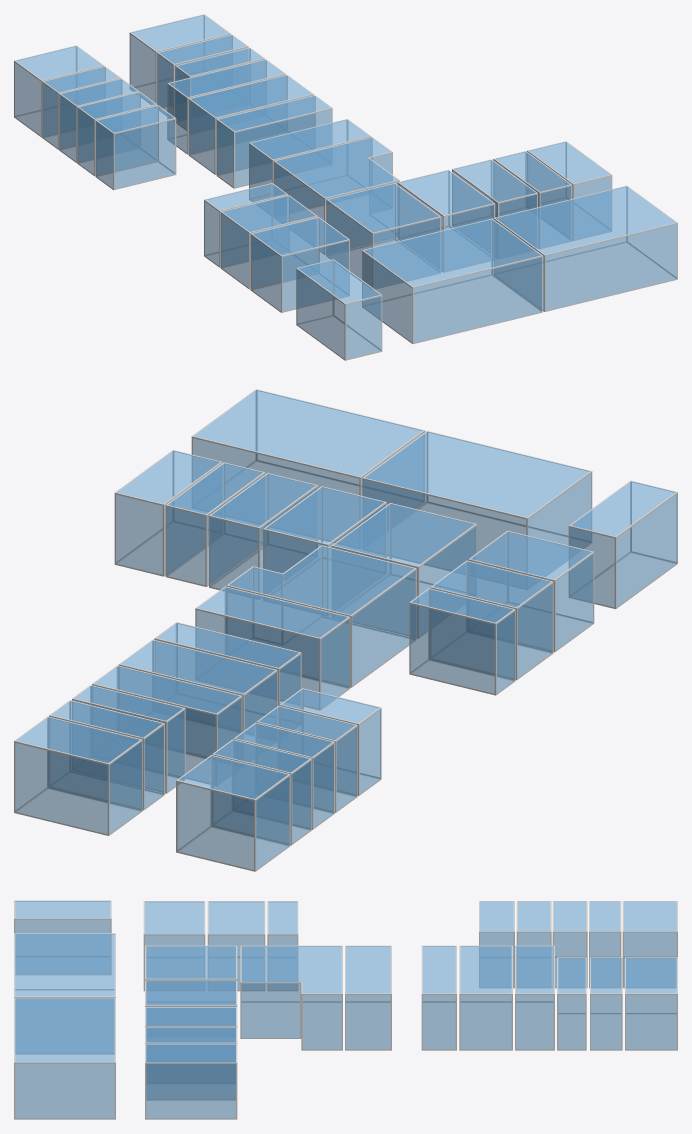
File: Hospital_Selection_Boxes_FirstFloor.glb
3 views of the same model, one above another, from view 1: azimuth 30°, elevation 25°; view 2: azimuth 150°, elevation 25°; view 3: azimuth 270°, elevation 25° (orthographic). The views are drawn at different scales.
Parts seen in each view (by area): view 1: Room_1, Room_Registry, Room_10, Room_8, Room_13, Room_11, Room_6, Room_7, Room_12, Room_Pharmacy, Room_5, Room_14 (+12 smaller); view 2: Room_Registry, Room_1, Room_10, Room_8, Room_17, Room_11, Room_7, Room_18, Room_13, Room_Pharmacy, Room_6, Room_2 (+12 smaller); view 3: Room_1, Room_Registry, Room_10, Room_Pharmacy, Room_2, Room_3, Room_13, Room_8, Room_11, Room_17, Room_6, Room_18 (+12 smaller).
Part boxes in pixels (x1,y1,x2,y2): Room_1: (493, 185, 677, 311); Room_Registry: (362, 218, 542, 344); Room_10: (273, 137, 399, 254); Room_8: (326, 183, 441, 289); Room_13: (188, 74, 313, 174); Room_11: (249, 119, 371, 211); Room_6: (250, 217, 349, 312); Room_7: (220, 195, 317, 289); Room_12: (216, 95, 332, 188); Room_Pharmacy: (296, 259, 382, 360); Room_5: (397, 169, 495, 272); Room_14: (167, 59, 285, 154); Room_Registry: (362, 431, 592, 589); Room_1: (191, 389, 425, 548); Room_10: (226, 545, 416, 687); Room_8: (331, 503, 476, 638); Room_17: (14, 716, 142, 835); Room_11: (195, 586, 350, 710); Room_7: (430, 560, 553, 680); Room_18: (176, 755, 290, 871); Room_13: (118, 639, 277, 760); Room_Pharmacy: (568, 480, 677, 609); Room_6: (468, 530, 594, 652); Room_2: (114, 450, 222, 576); Room_1: (14, 997, 115, 1119); Room_Registry: (14, 933, 115, 1052); Room_10: (240, 945, 342, 1050); Room_Pharmacy: (14, 900, 111, 974); Room_2: (145, 1043, 237, 1119); Room_3: (145, 1027, 237, 1098); Room_13: (459, 945, 512, 1050); Room_8: (145, 945, 237, 1004); Room_11: (345, 945, 391, 1050); Room_17: (625, 957, 677, 1050); Room_6: (143, 901, 205, 991); Room_18: (622, 901, 677, 988).
Bounding box in the file's own units: 20.17 × 3.29 × 34.87.
